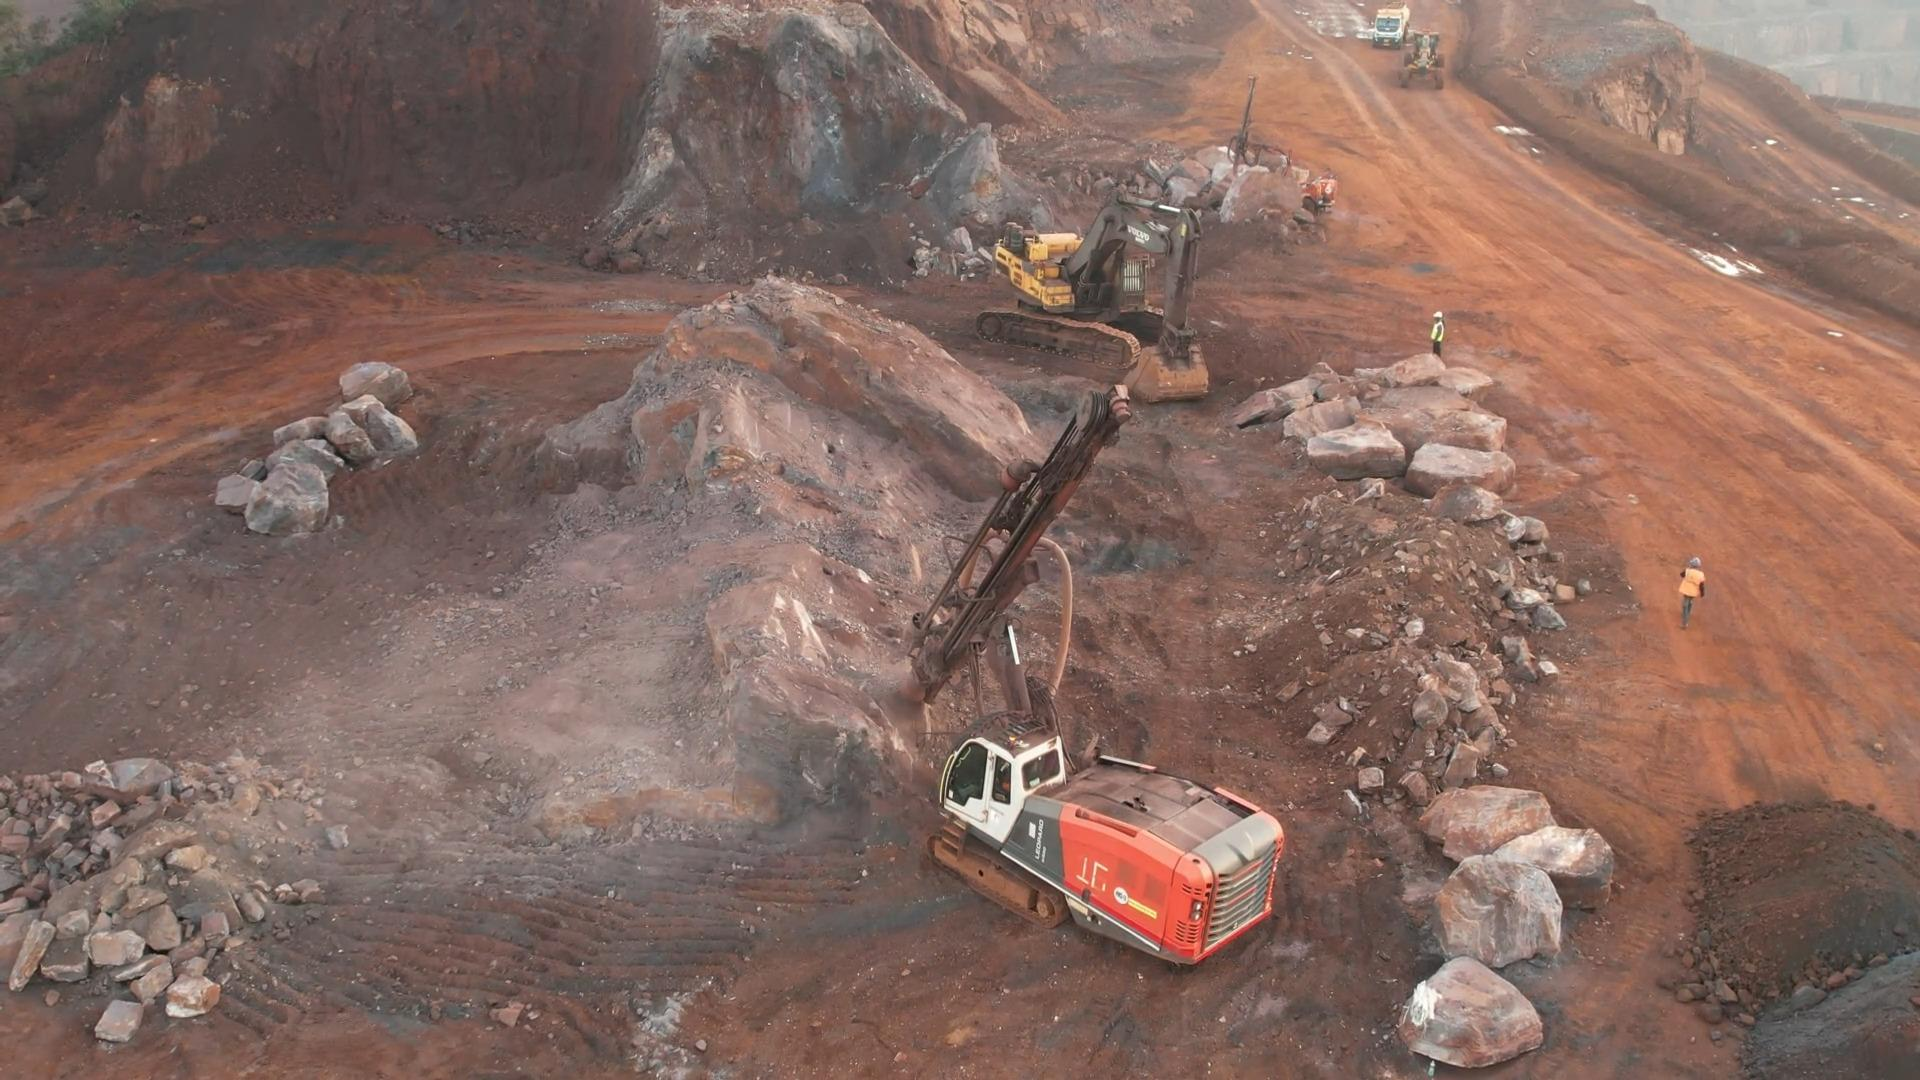excavator: (993, 221, 1208, 378)
